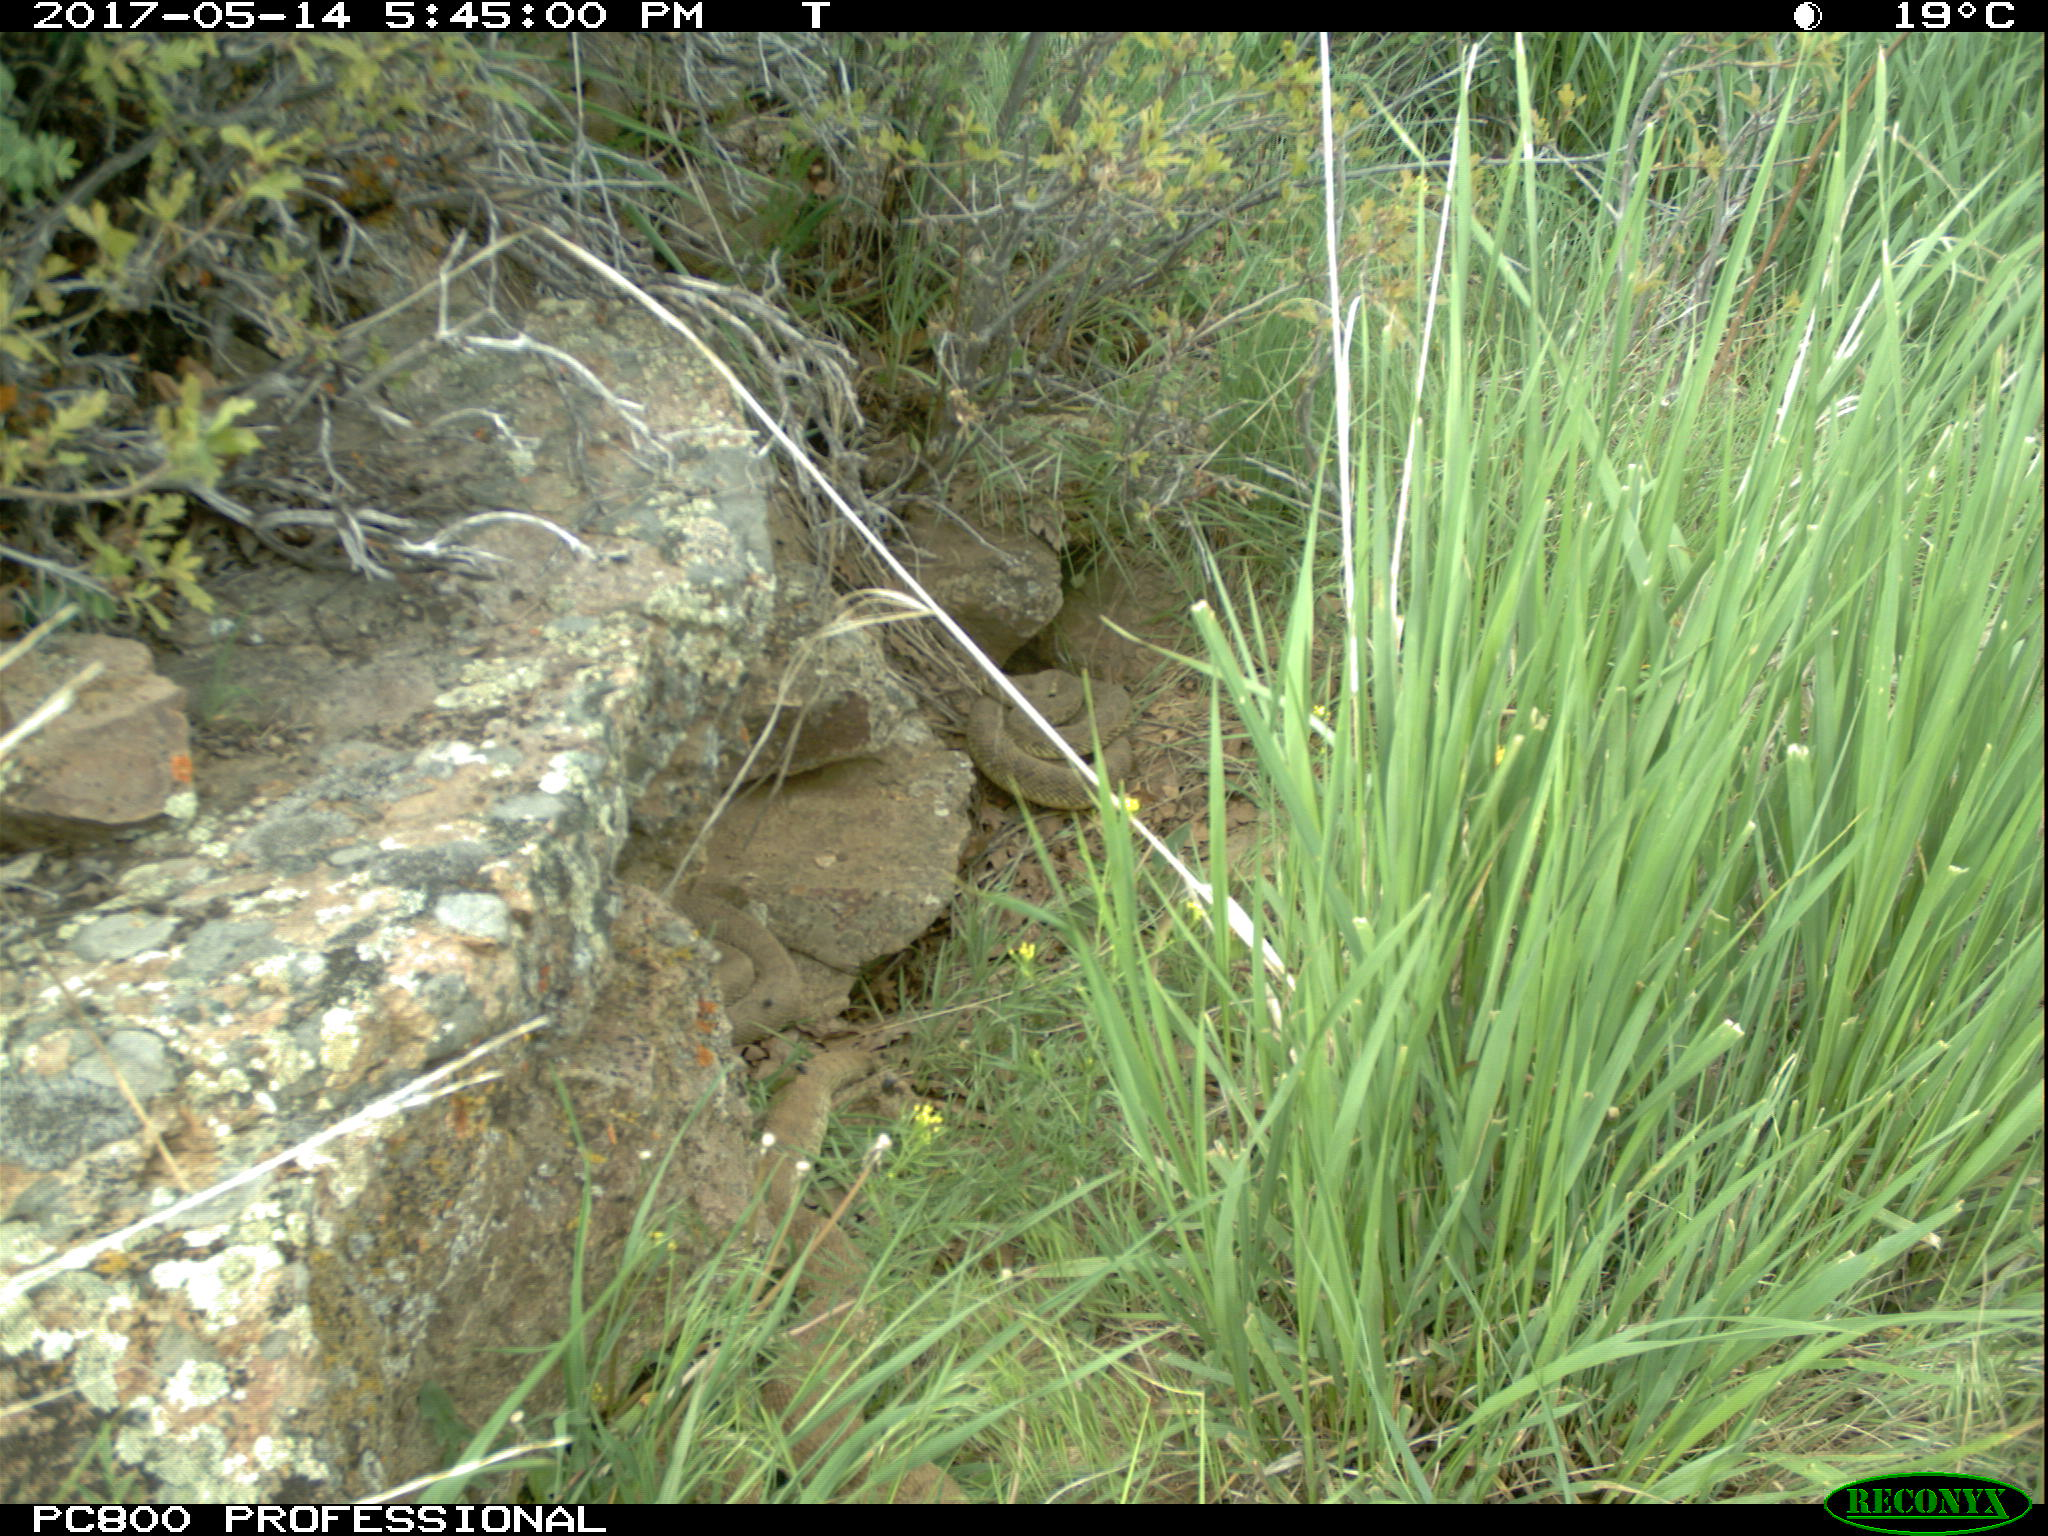snake: (748, 1049, 887, 1478), (966, 662, 1138, 812), (677, 891, 806, 1070), (642, 153, 806, 278)
